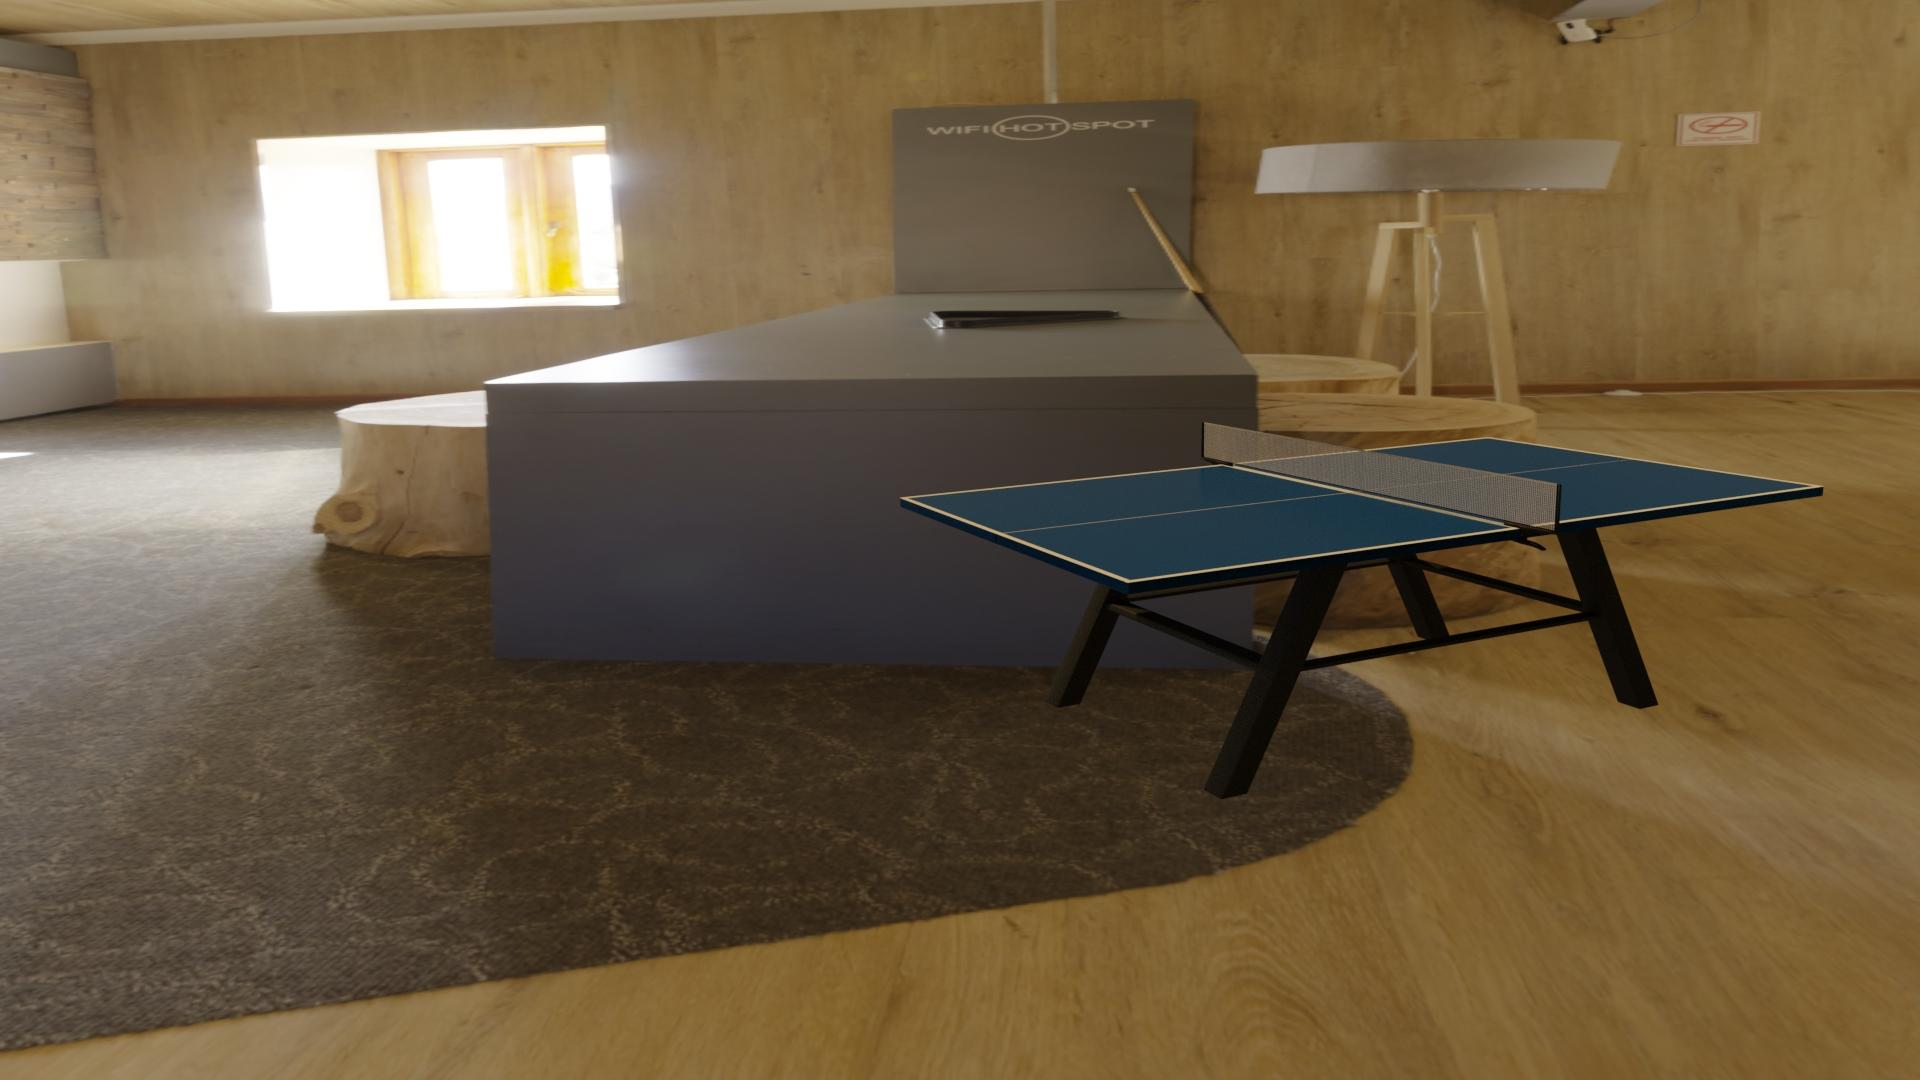table: (907, 438, 1815, 580)
